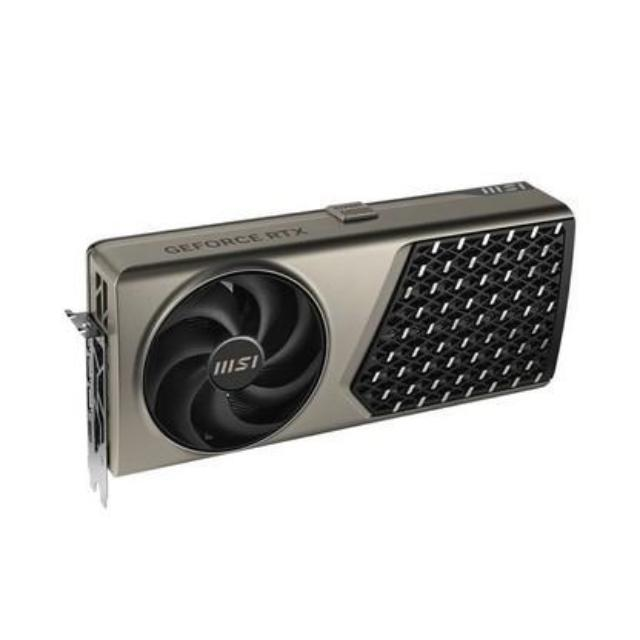GPU: (78, 182, 580, 480)
